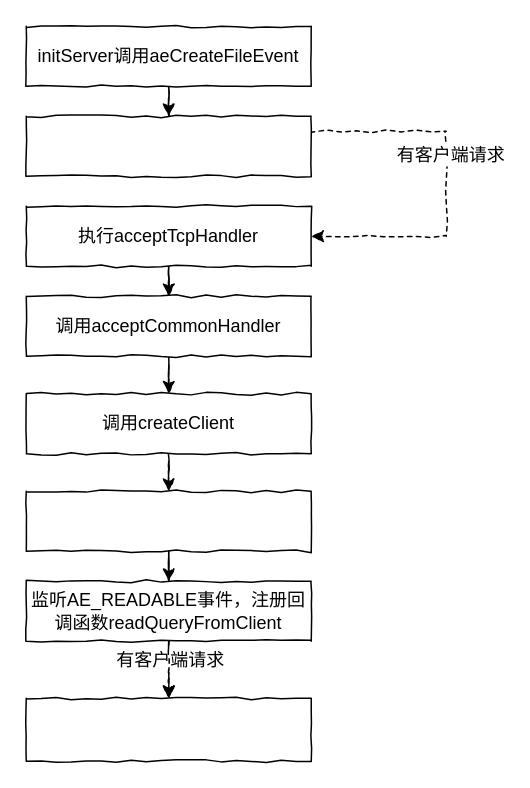
The diagram is 530 pixels wide and 788 high, and some of its shapes have lost their labels. Each missing label, with the centre of its shape:
"执行readQueryFromClient" goes at (168,729).
"监听AE_READABLE事件，注册acceptTcpHandler" goes at (168,145).
"调用aeCreateFileEvent" goes at (168,520).
